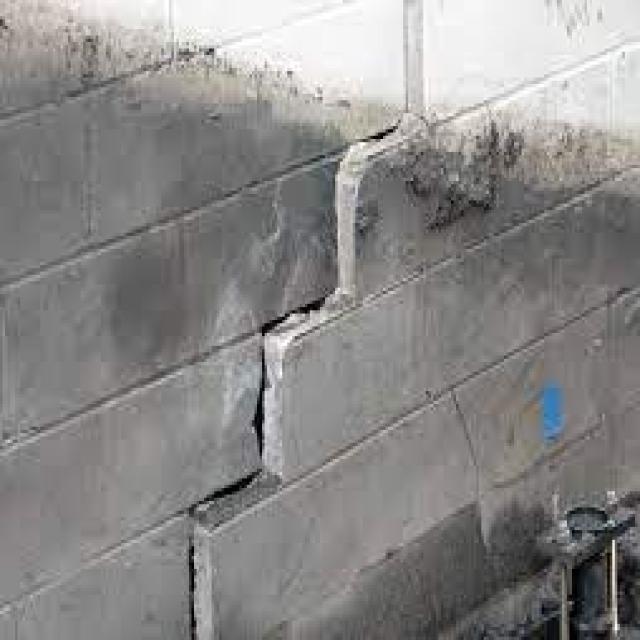Crack: (181, 113, 411, 637)
